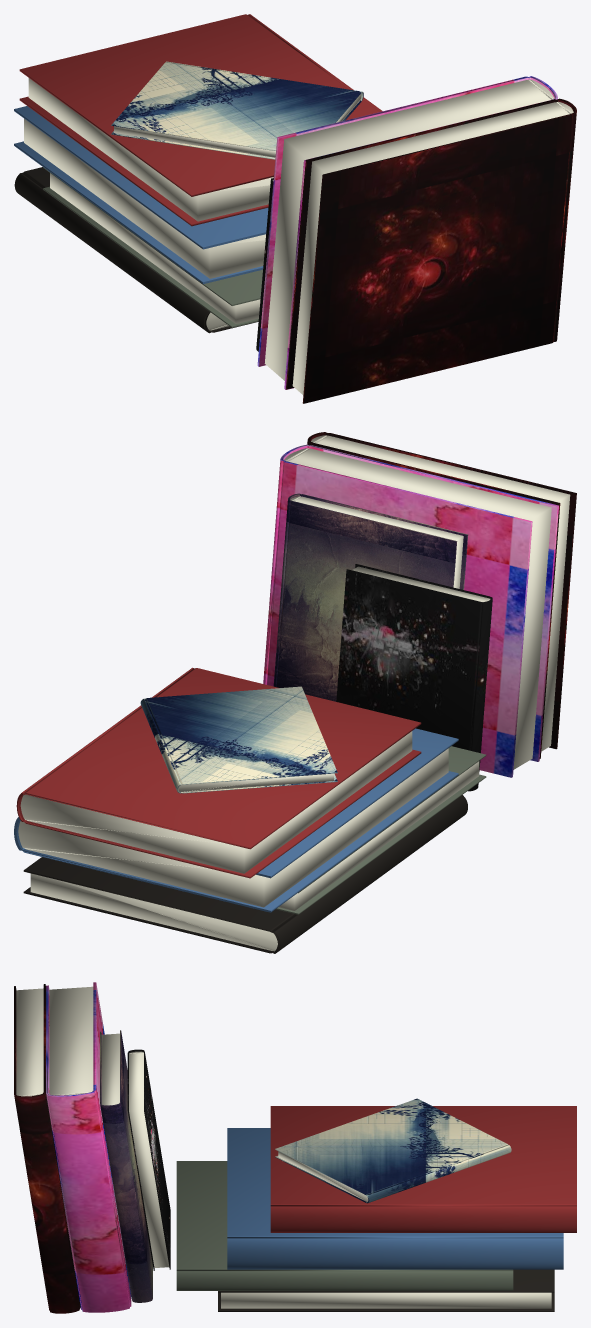
The model's file is books_notebook.glb.
The picture shows the model from 3 angles, top to bottom: view 1: azimuth 30°, elevation 25°; view 2: azimuth 150°, elevation 25°; view 3: azimuth 270°, elevation 25°; orthographic projection. The views are drawn at different scales.
Visible parts, largest first — view 1: Object_6, Object_7, Object_10, Object_8, Object_3, Object_9, Object_4, Object_5, Object_11; view 2: Object_7, Object_10, Object_4, Object_11, Object_2, Object_8, Object_9, Object_3, Object_6, Object_5; view 3: Object_10, Object_7, Object_3, Object_5, Object_8, Object_4, Object_6, Object_2, Object_9, Object_11.
Part boxes in pixels (x1=…): Object_6: x1=286, y1=98, x2=576, y2=403; Object_7: x1=24, y1=78, x2=573, y2=394; Object_10: x1=19, y1=14, x2=382, y2=226; Object_8: x1=111, y1=61, x2=363, y2=159; Object_3: x1=14, y1=106, x2=268, y2=284; Object_9: x1=14, y1=167, x2=258, y2=333; Object_4: x1=257, y1=76, x2=557, y2=389; Object_5: x1=43, y1=167, x2=262, y2=327; Object_11: x1=256, y1=178, x2=273, y2=351; Object_7: x1=18, y1=435, x2=570, y2=951; Object_10: x1=16, y1=667, x2=421, y2=878; Object_4: x1=263, y1=444, x2=558, y2=777; Object_11: x1=336, y1=564, x2=492, y2=791; Object_2: x1=273, y1=493, x2=468, y2=701; Object_8: x1=140, y1=686, x2=337, y2=793; Object_9: x1=23, y1=795, x2=467, y2=953; Object_3: x1=14, y1=728, x2=458, y2=912; Object_6: x1=307, y1=432, x2=576, y2=758; Object_5: x1=276, y1=746, x2=486, y2=914; Object_10: x1=270, y1=1106, x2=576, y2=1232; Object_7: x1=16, y1=986, x2=551, y2=1308; Object_3: x1=227, y1=1128, x2=563, y2=1269; Object_5: x1=176, y1=1161, x2=513, y2=1290; Object_8: x1=275, y1=1098, x2=511, y2=1203; Object_4: x1=46, y1=982, x2=131, y2=1312; Object_6: x1=14, y1=984, x2=80, y2=1313; Object_2: x1=100, y1=1030, x2=152, y2=1302; Object_9: x1=218, y1=1269, x2=554, y2=1311; Object_11: x1=127, y1=1049, x2=170, y2=1270.
Size of the model in its own units: 0.8474 by 0.76 by 1.76.
10 materials, 5 textured.
